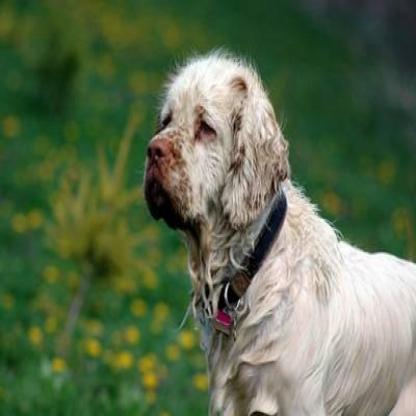clumber: (141, 44, 414, 413)
